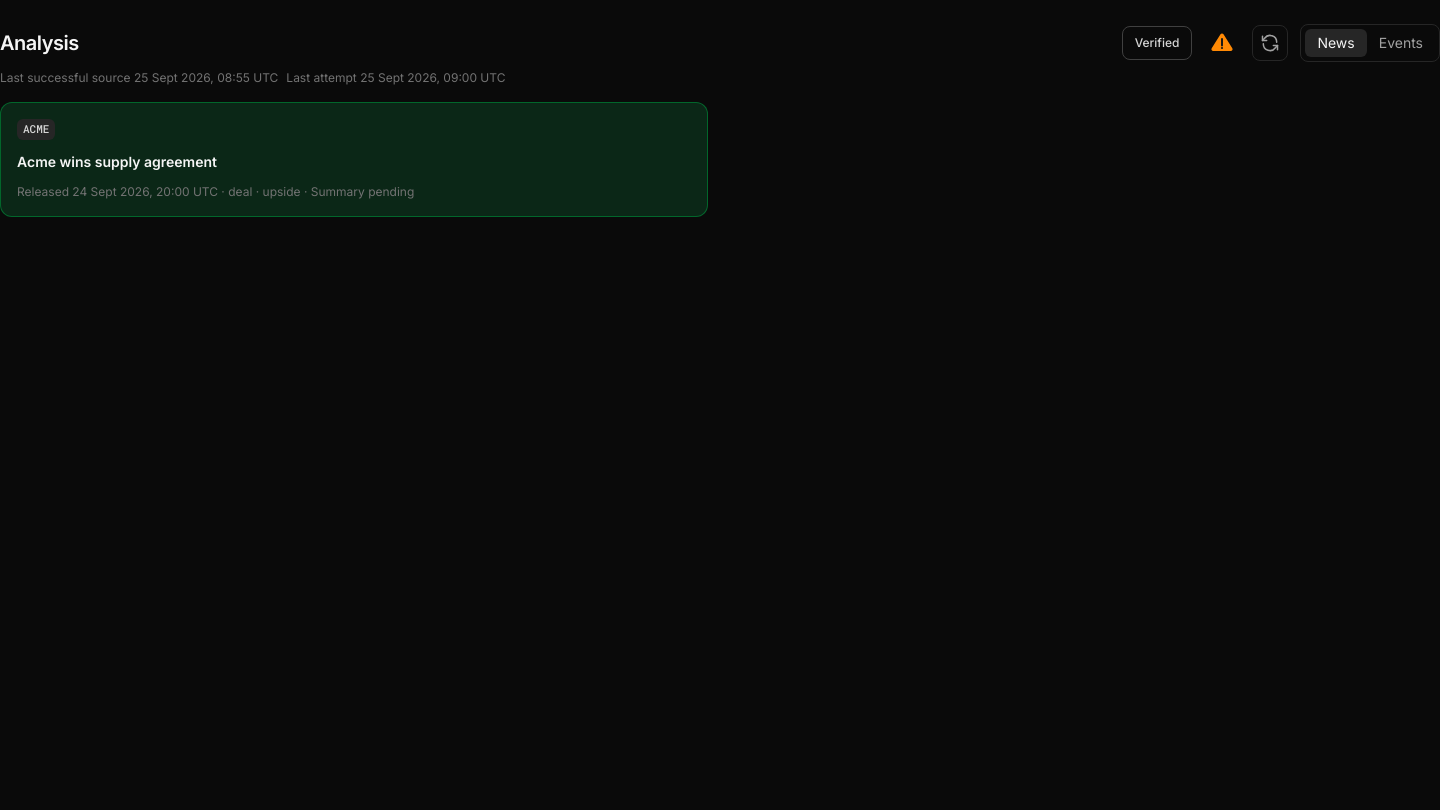
Test: NewsSection › keeps news usable when the events endpoint fails and marks summaries pending
Expected: the button "Acme wins supply agreement" is shown, [0,102,708,216]
Expected: the text "Summary pending" is shown, [301,184,414,198]
Click the tab "Events": [1401, 43] box [1367,29,1435,57]
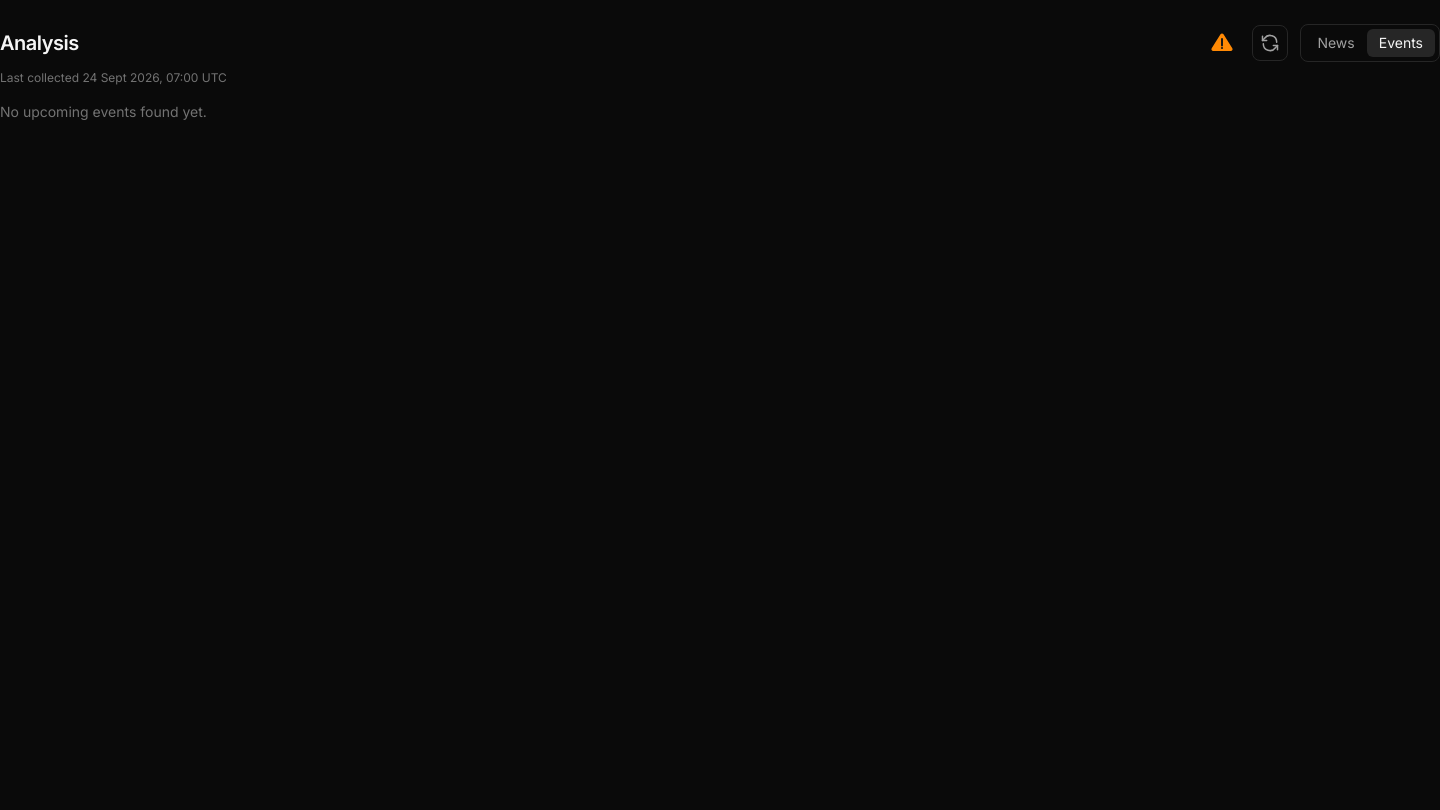
Click the button named "Events collection errors": [1222, 43] box [1204,25,1240,61]
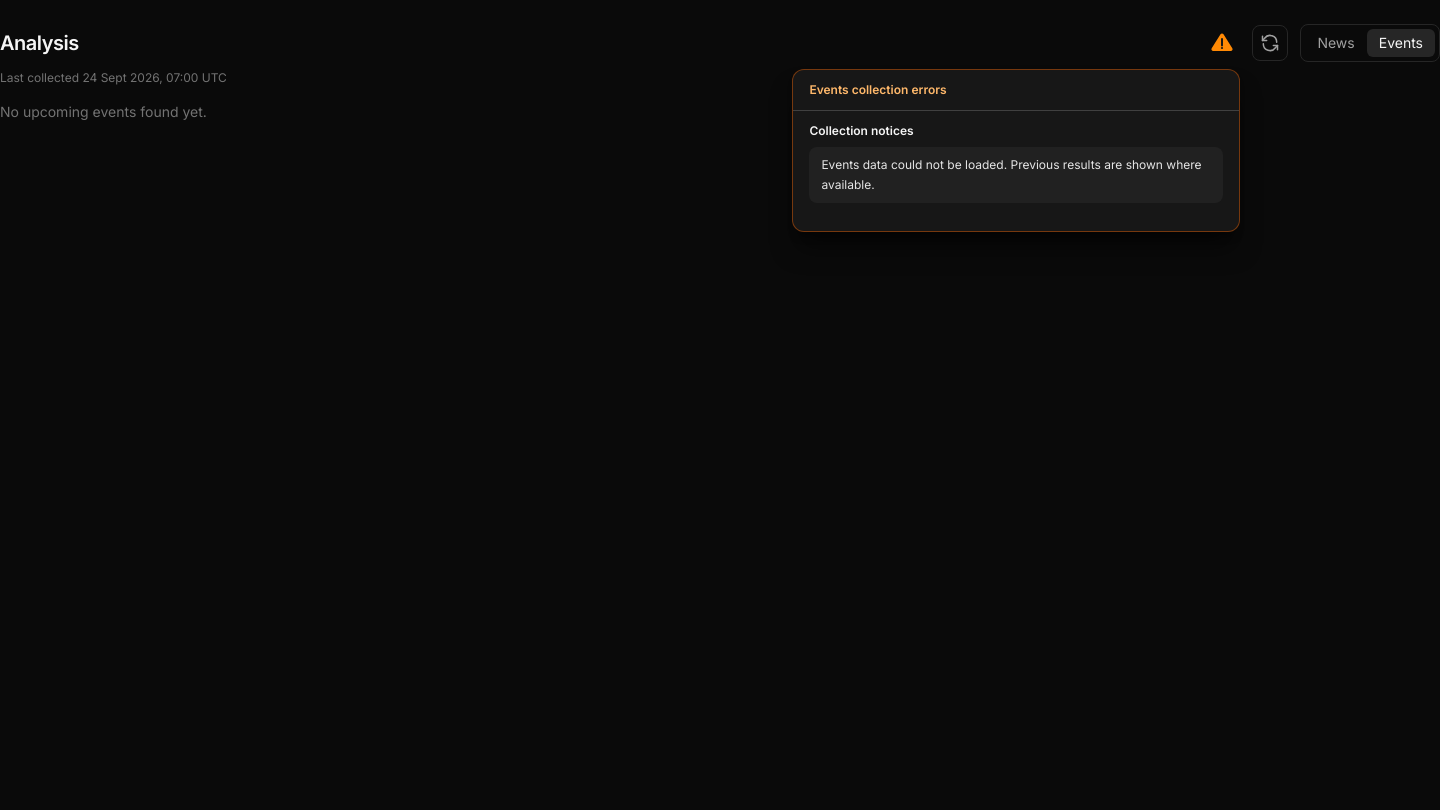
Expected: the dialog "Events collection errors" shows "Events data could not be loaded", [821,157,1202,192]
